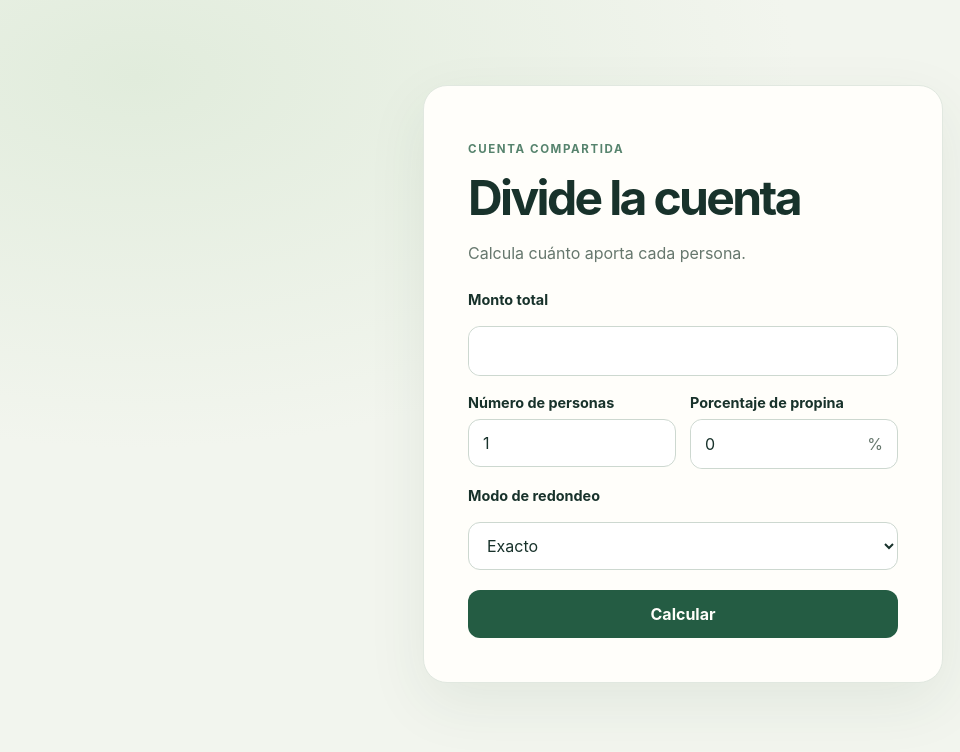
Test: PantallaDivisor: entradas inválidas › rechaza valores negativos con un mensaje claro
Type "50" into the field labelled "Monto total" at point(683, 350), box [469,326,897,374]
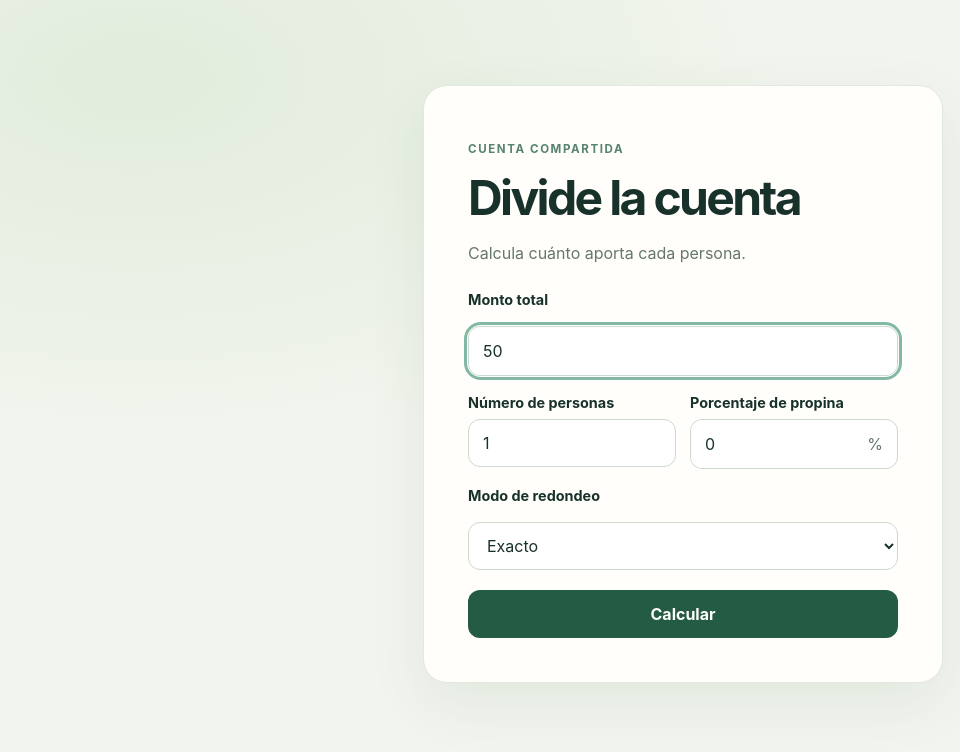
Replace the text in the field labelled "Número de personas" with "2" at point(572, 442), box [468,418,676,466]
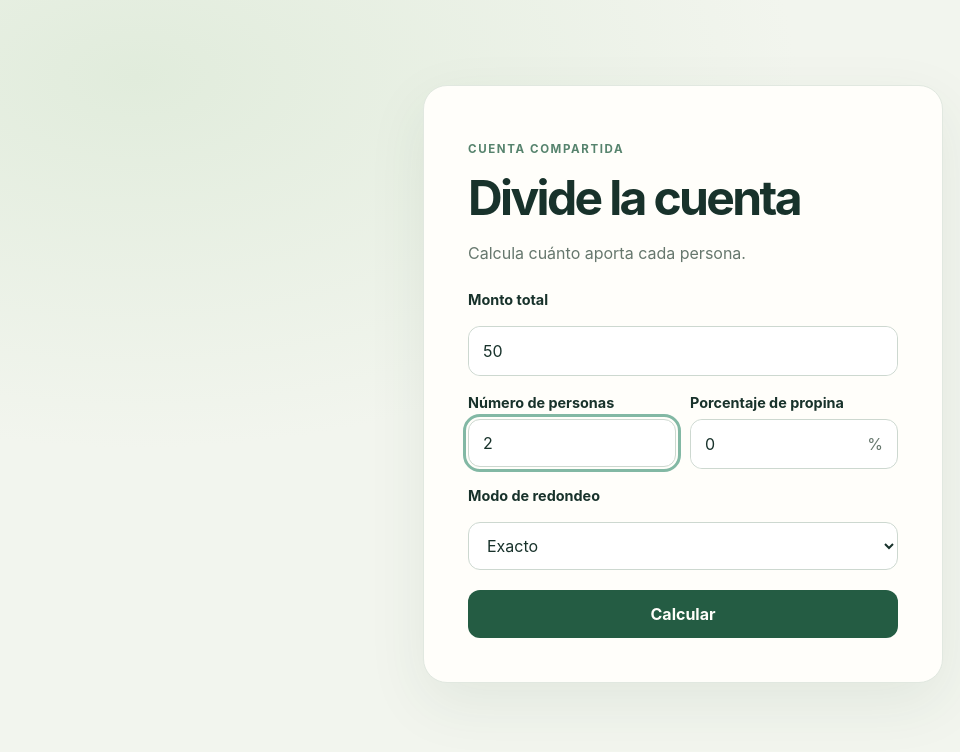
Replace the text in the field labelled "Porcentaje de propina" with "-1" at point(772, 444), box [691,420,853,468]
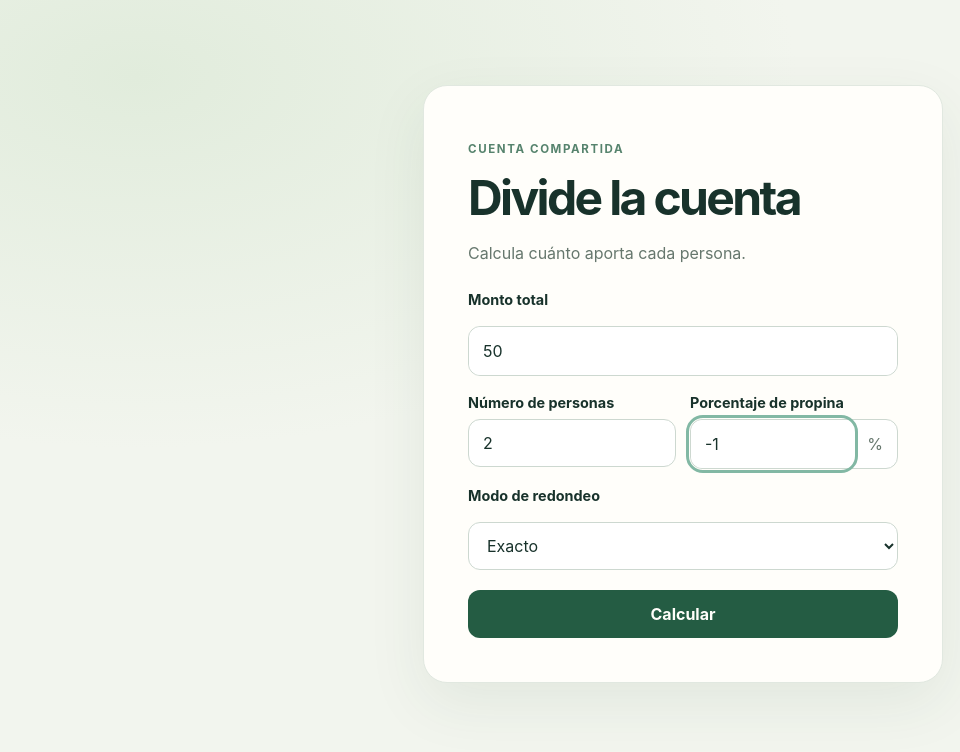
Select "Exacto" in the dropdown labelled "Modo de redondeo" at point(683, 546), box [468,522,898,570]
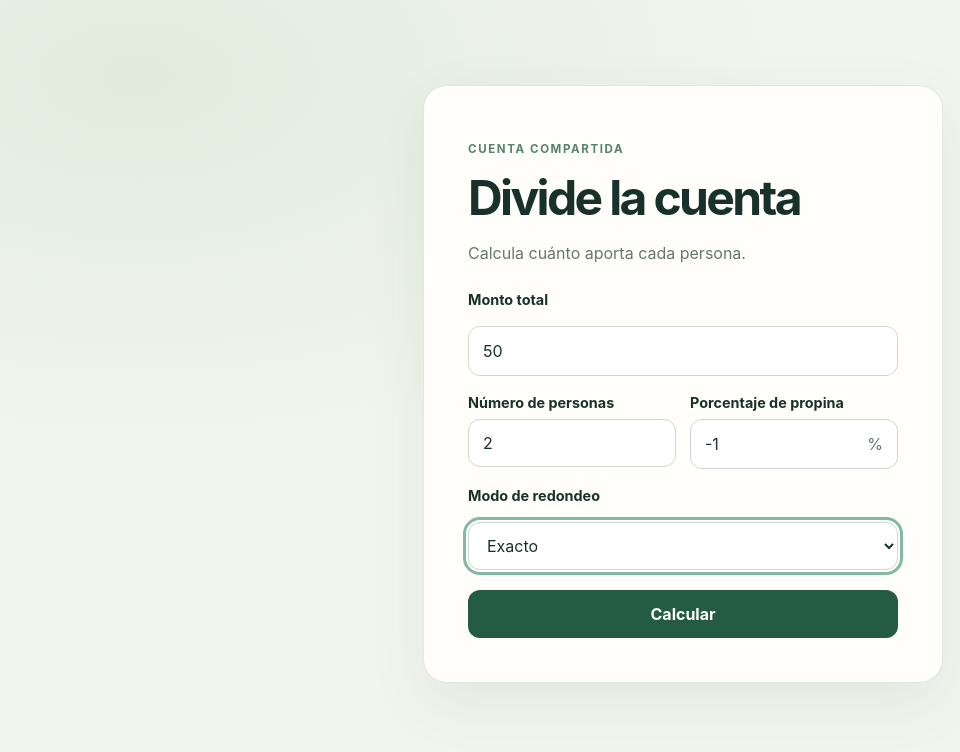
Click the button "Calcular" at point(683, 614), box [468,590,898,638]
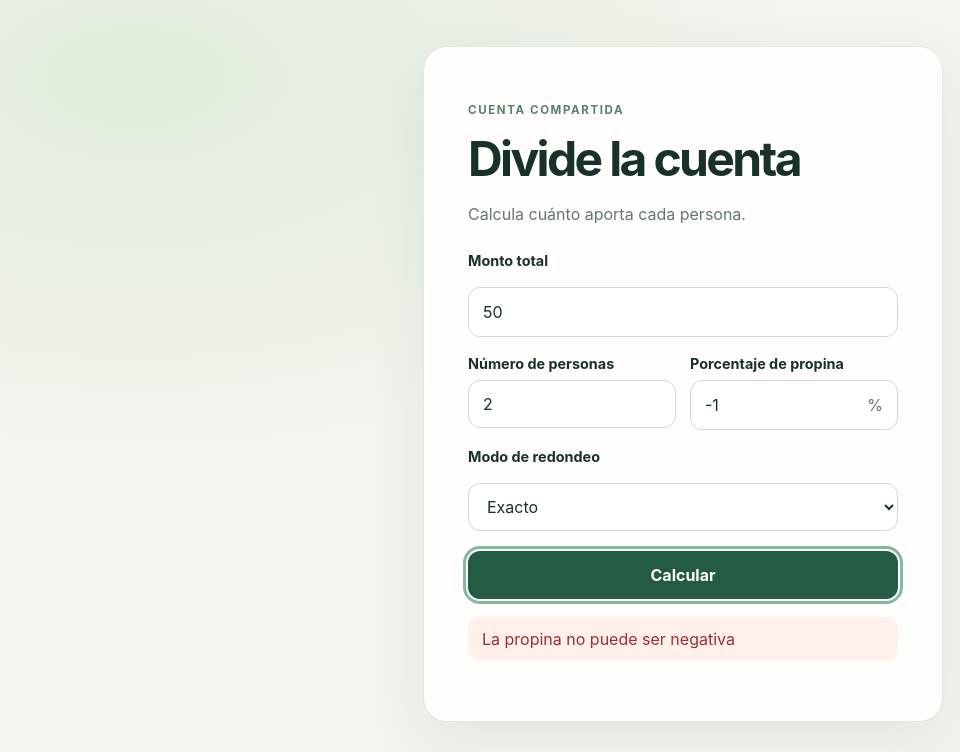
Check: the message reads "La propina no puede ser negativa", box [482,628,735,648]
